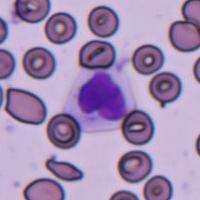M: (63, 67, 136, 131)
